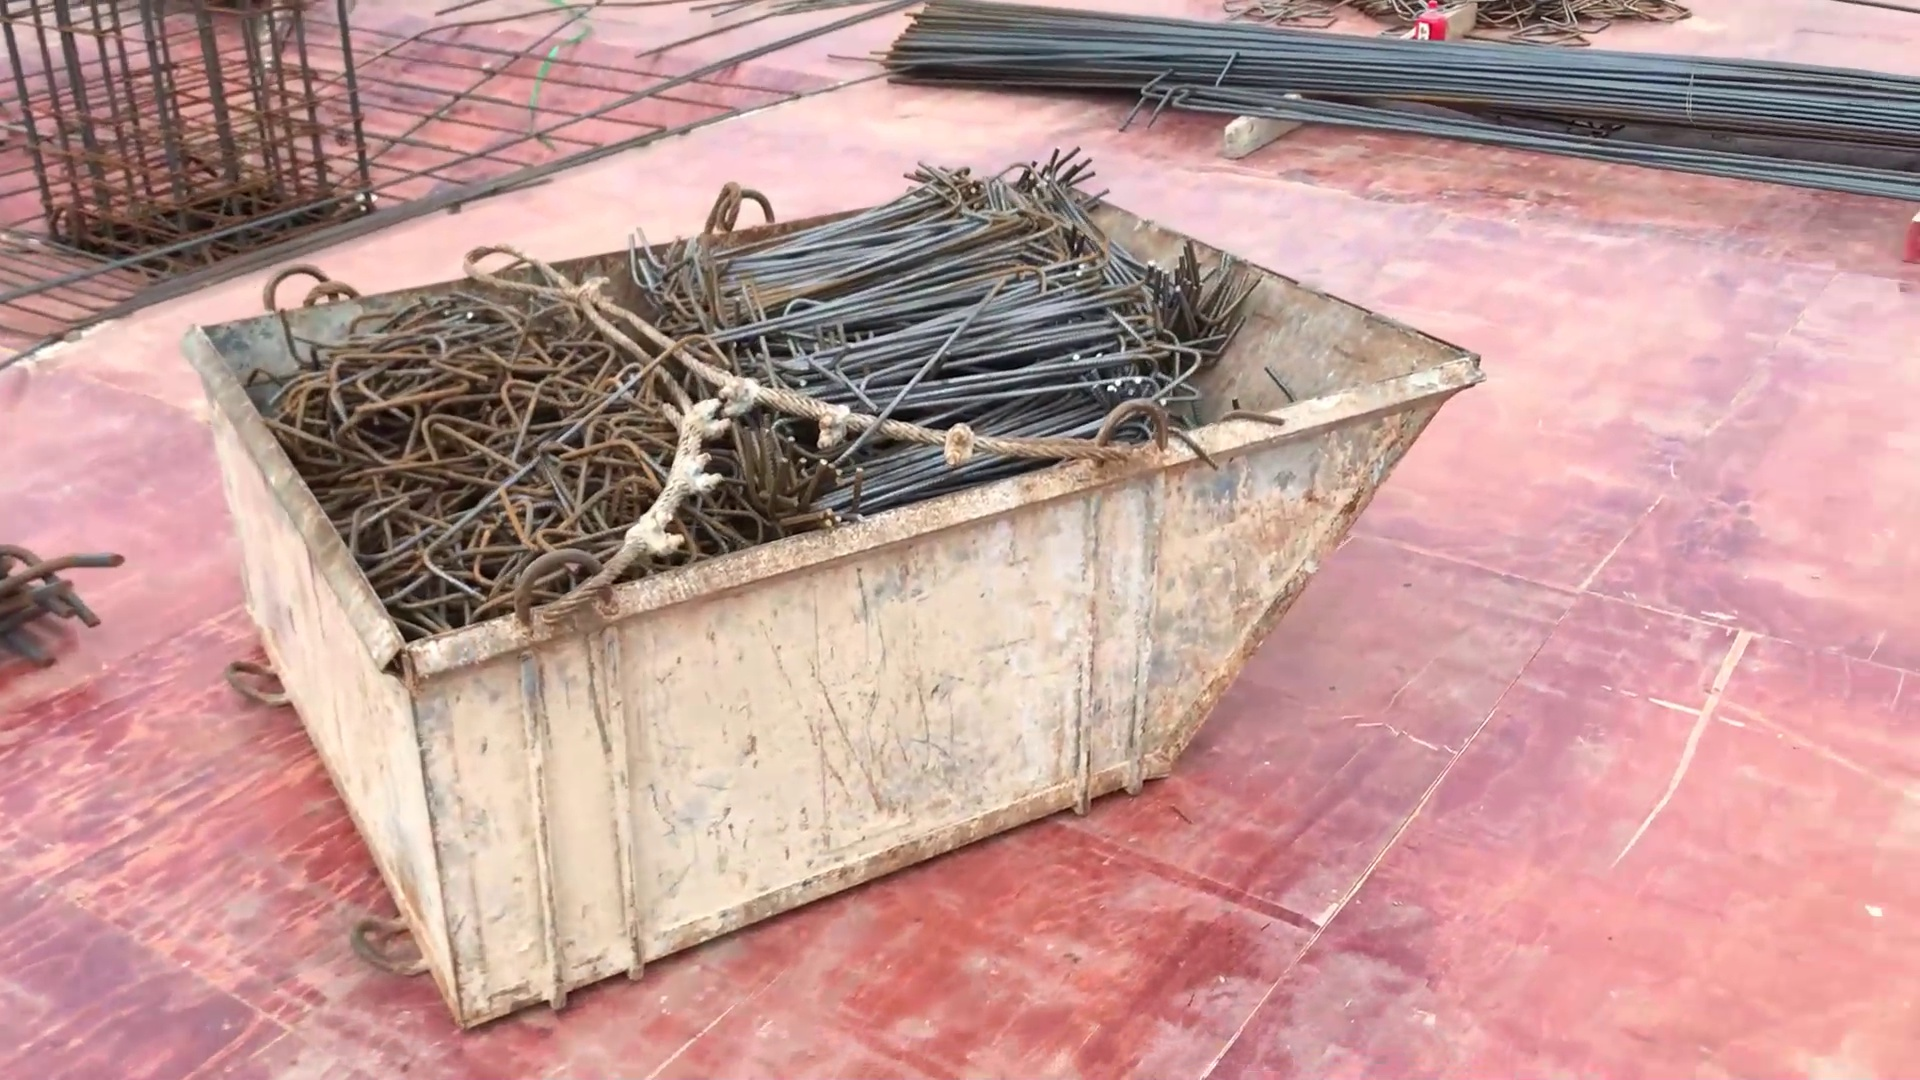hopper: (175, 157, 1507, 1050)
rebar: (833, 1, 1915, 207)
